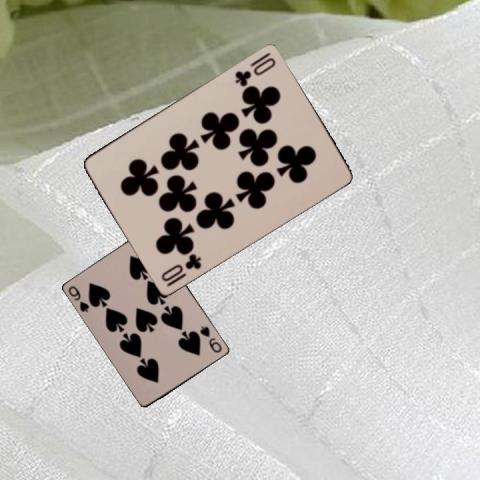10c: (232, 49, 277, 88), (158, 250, 203, 288)
9s: (198, 322, 224, 354), (66, 283, 92, 313)
